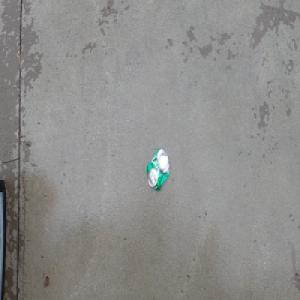SodaCan: (145, 147, 170, 193)
